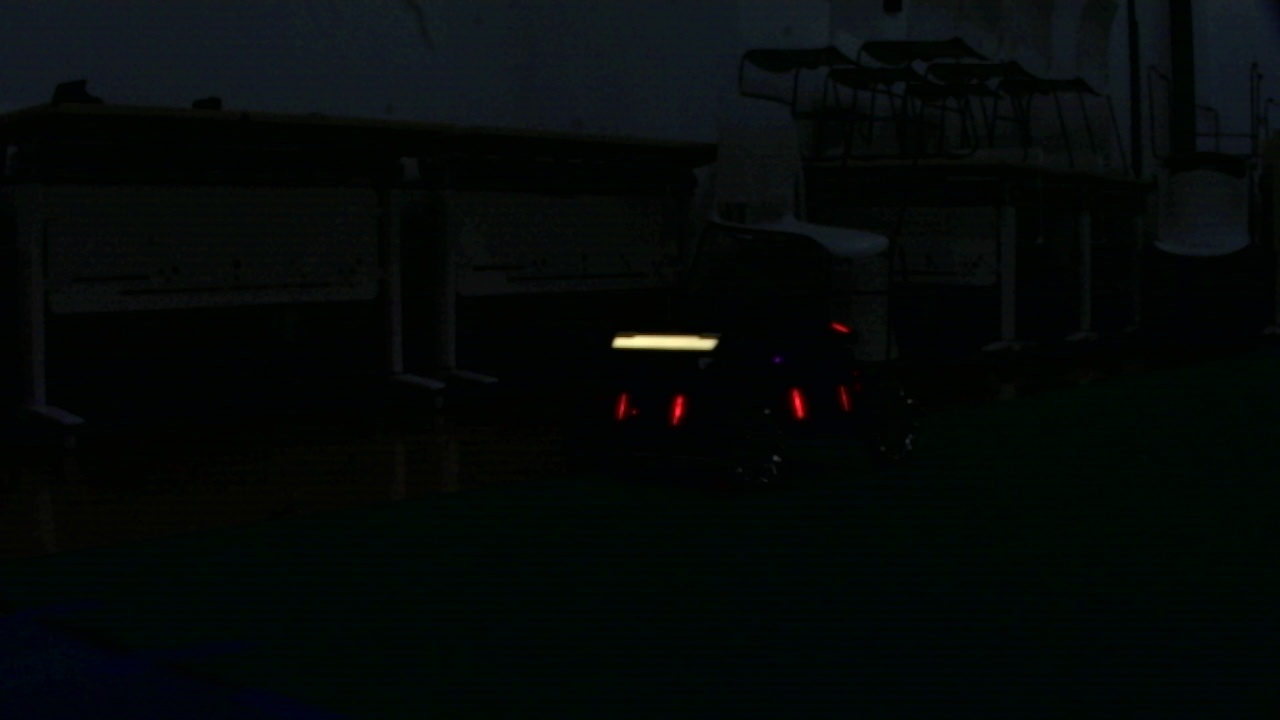lamp: (793, 389, 807, 419), (671, 392, 683, 423)
pair1: (617, 394, 683, 419), (618, 392, 627, 419)
